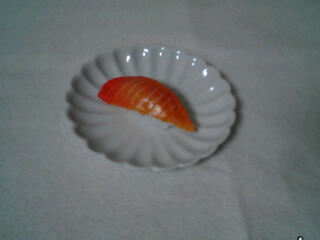002_classes: (96, 66, 199, 134)
